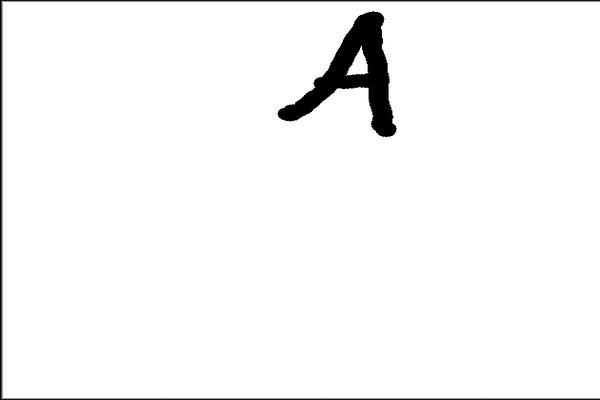A: (274, 4, 404, 143)
